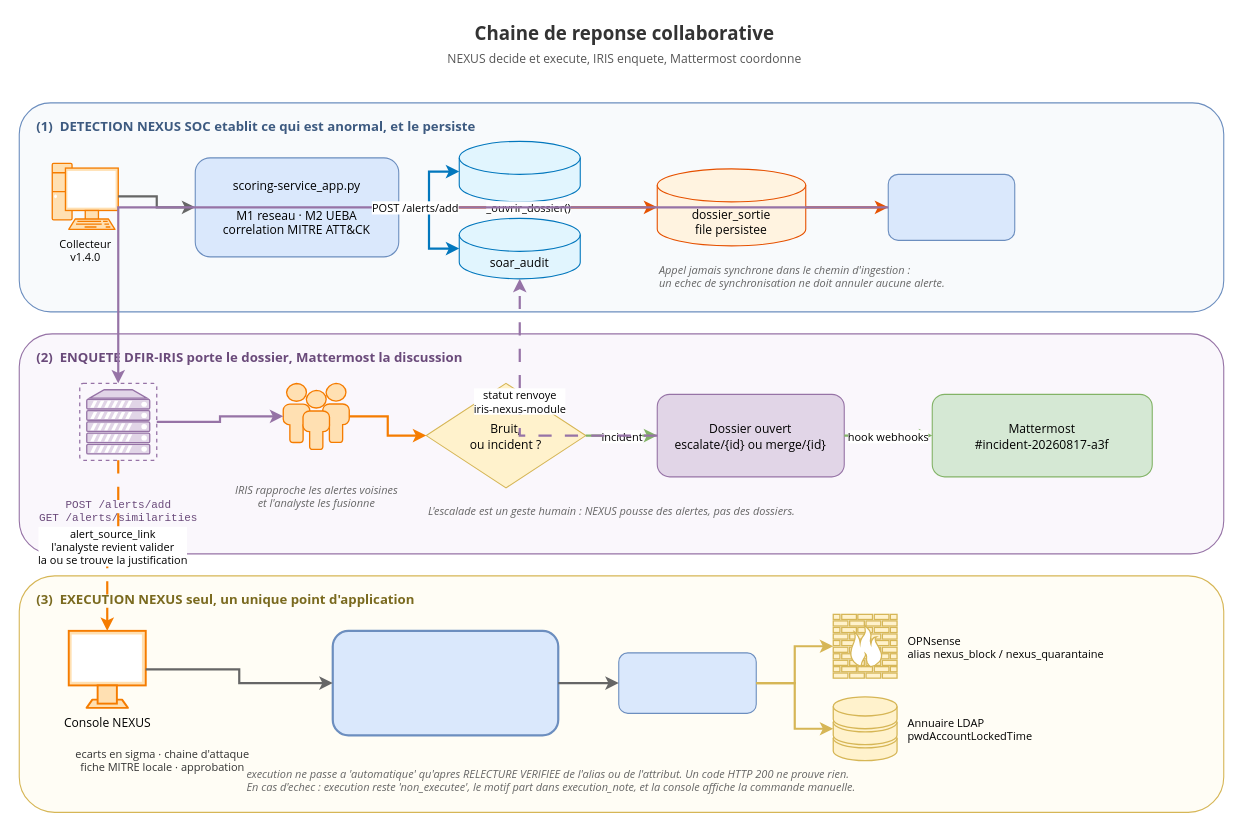
Image size: 1243x832. Some labels were removed from this diagram. Each missing label, with the centre of its shape:
"alerts" belongs at (x=519, y=171).
"Analyste SOC" belongs at (x=316, y=416).
"connecteurs" belongs at (x=687, y=682).
"DFIR-IRIS LGPL-3.0" belongs at (x=117, y=421).
"POST /analyst/execute/{id} seul ecrivain de soar_audit.execution" belongs at (x=445, y=682).
"worker de reprise" belongs at (x=951, y=206).
